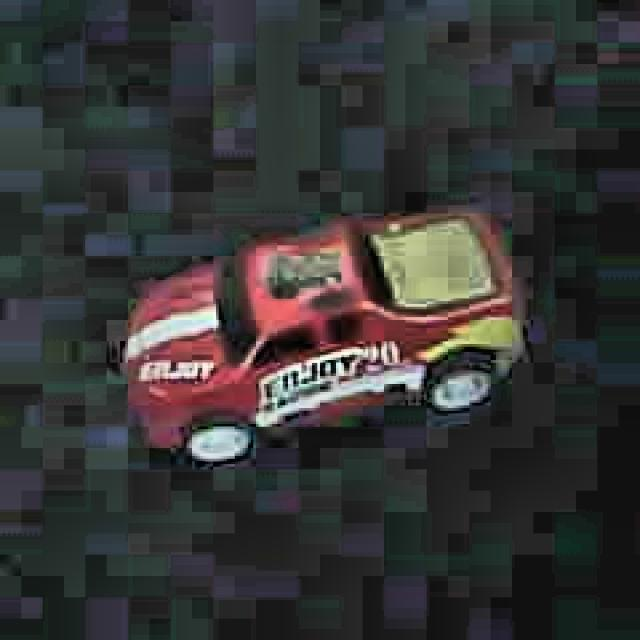car: (110, 200, 533, 474)
